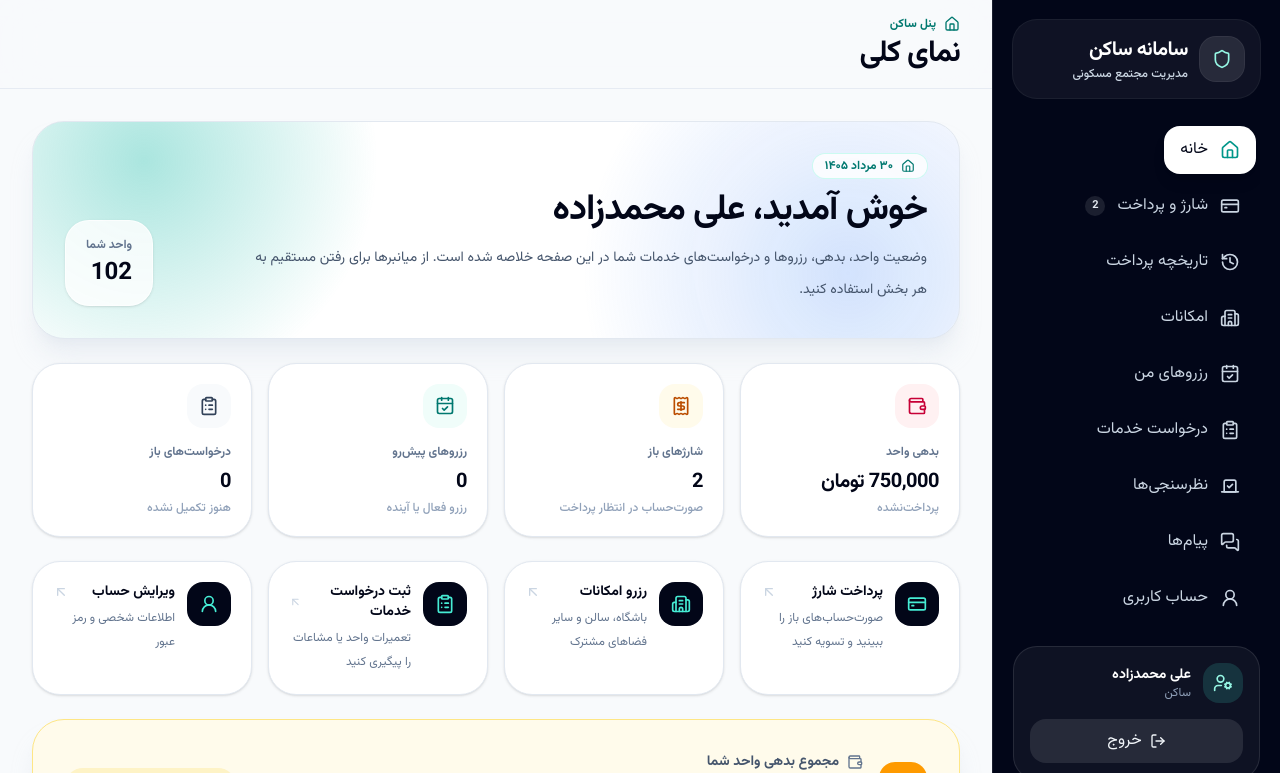
Scenario: ResidentDashboardPage › keeps the pay button disabled until a charge is selected, then totals the selection
Click the button "شارژ و پرداخت 2": [1163, 206] box [1069,182,1256,230]
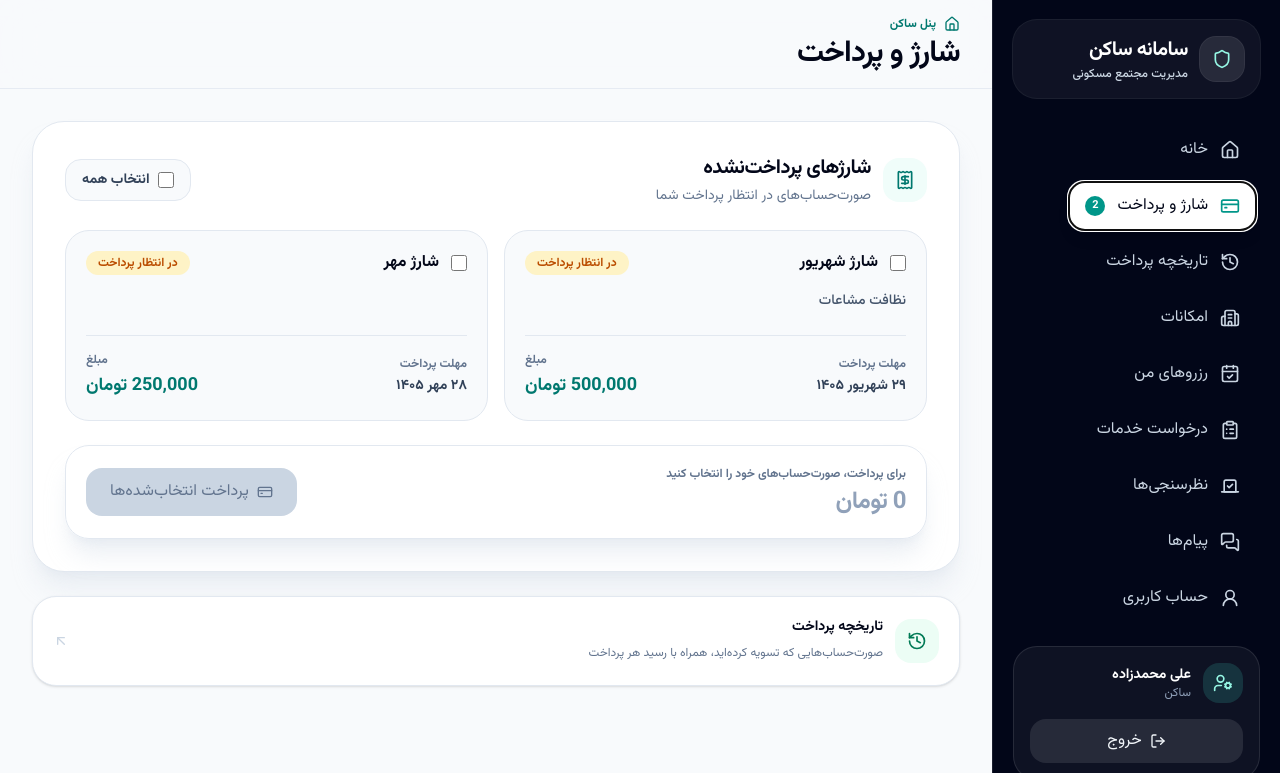
Check: the heading "شارژ شهریور" is shown, box [799,251,878,275]
Check: the button "پرداخت انتخاب‌شده‌ها" is disabled, box [86,468,297,516]
Click the checkbox named "انتخاب شارژ شهریور": [898, 263] box [890,255,906,271]
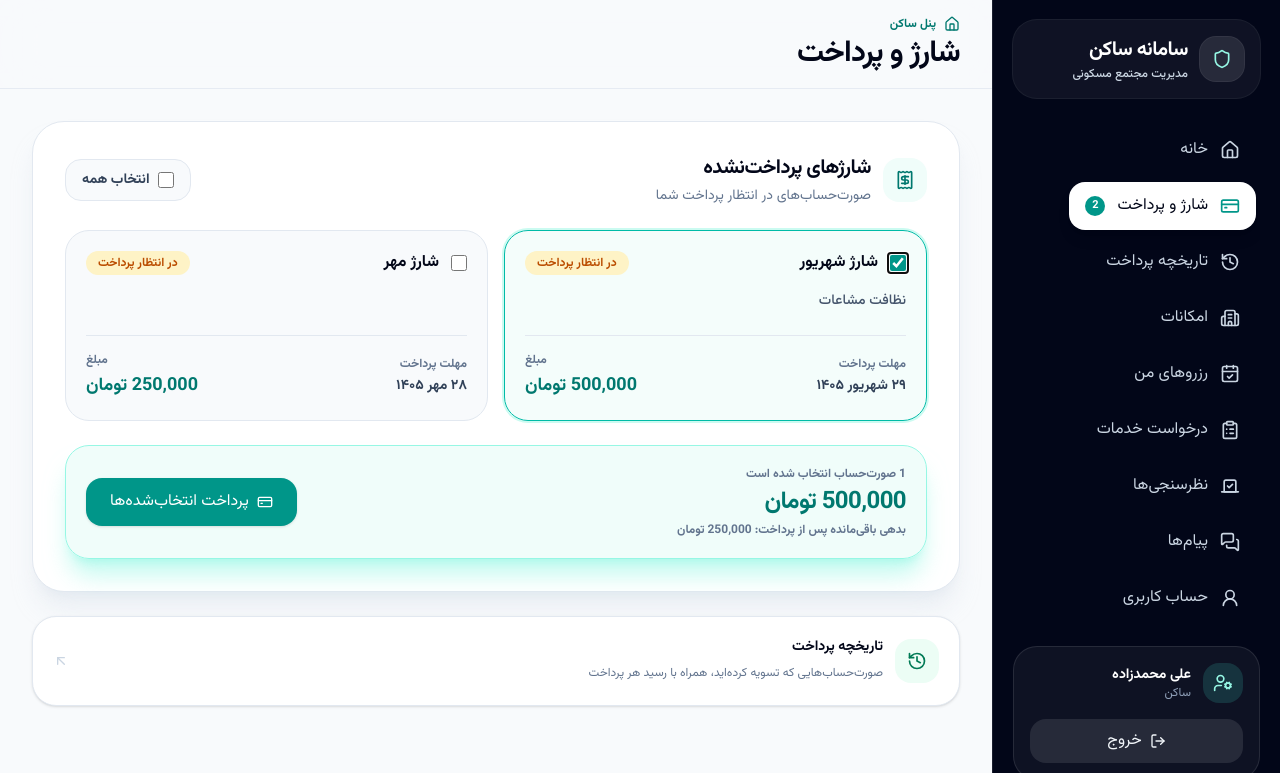
Check: the button "پرداخت انتخاب‌شده‌ها" is enabled, box [86,478,297,526]
Check: the text "1 صورت‌حساب انتخاب شده است" is shown, box [746,465,906,483]
Click the checkbox named "انتخاب شارژ مهر": [459, 263] box [451,255,467,271]
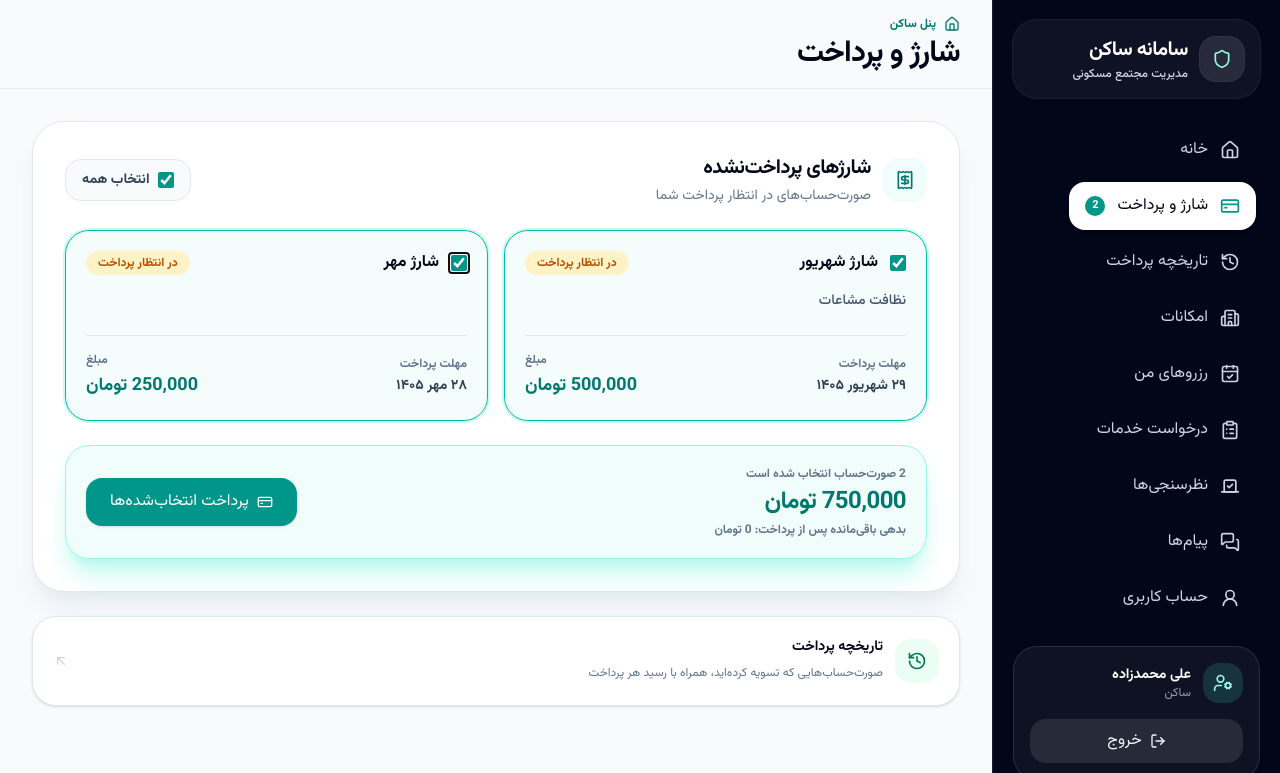
Check: the text "2 صورت‌حساب انتخاب شده است" is shown, box [746,465,906,483]
Check: the text "750,000 تومان" is shown, box [764,483,906,521]
